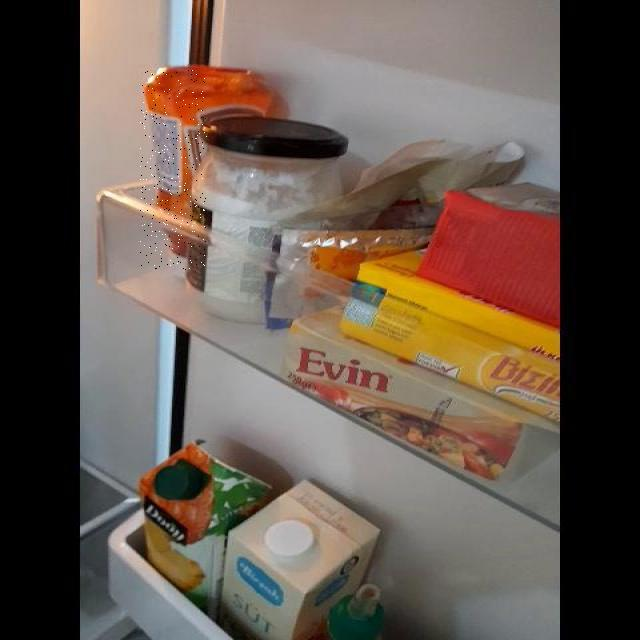sauce: (140, 70, 207, 271)
